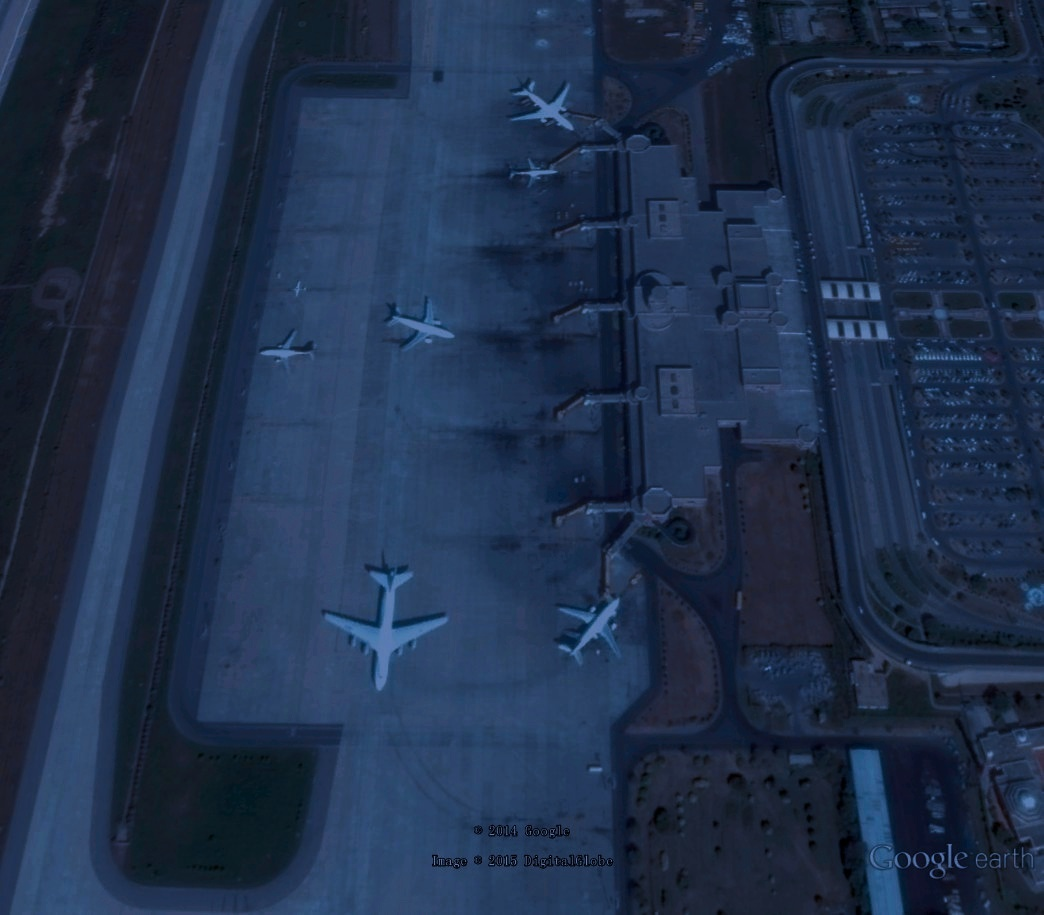aircraft: (318, 561, 451, 702), (549, 594, 630, 678), (378, 291, 462, 357), (502, 72, 579, 139), (253, 327, 321, 379), (501, 156, 564, 193)
